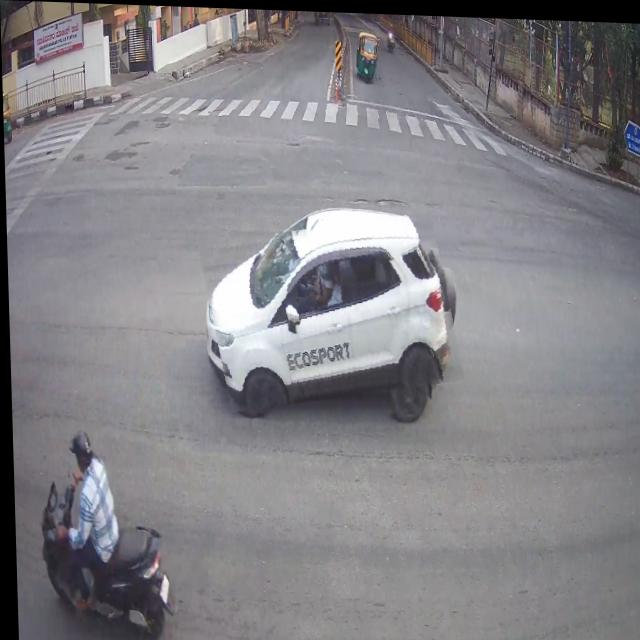Car: (203, 211, 457, 408)
Three-wheeler: (357, 34, 383, 80)
Two-wheelers: (31, 452, 152, 622), (387, 24, 399, 45)
